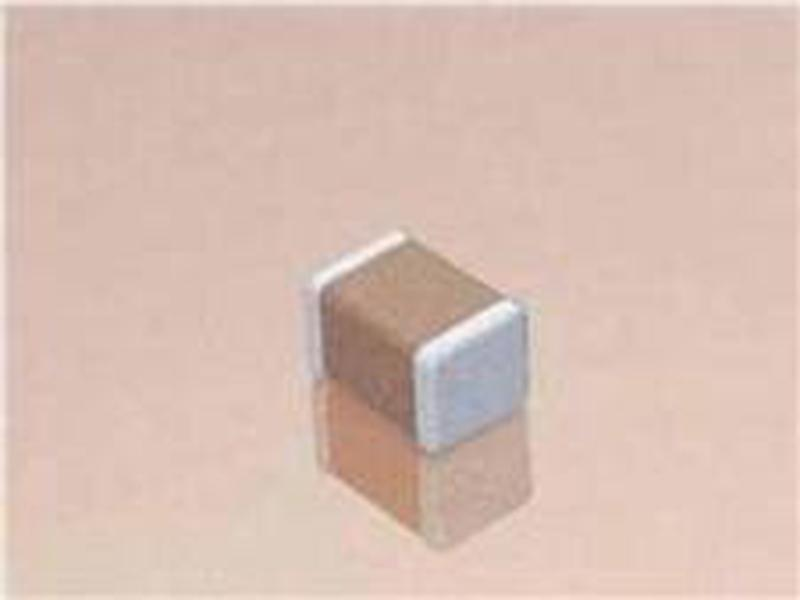SMD capacitor: (301, 221, 550, 450)
